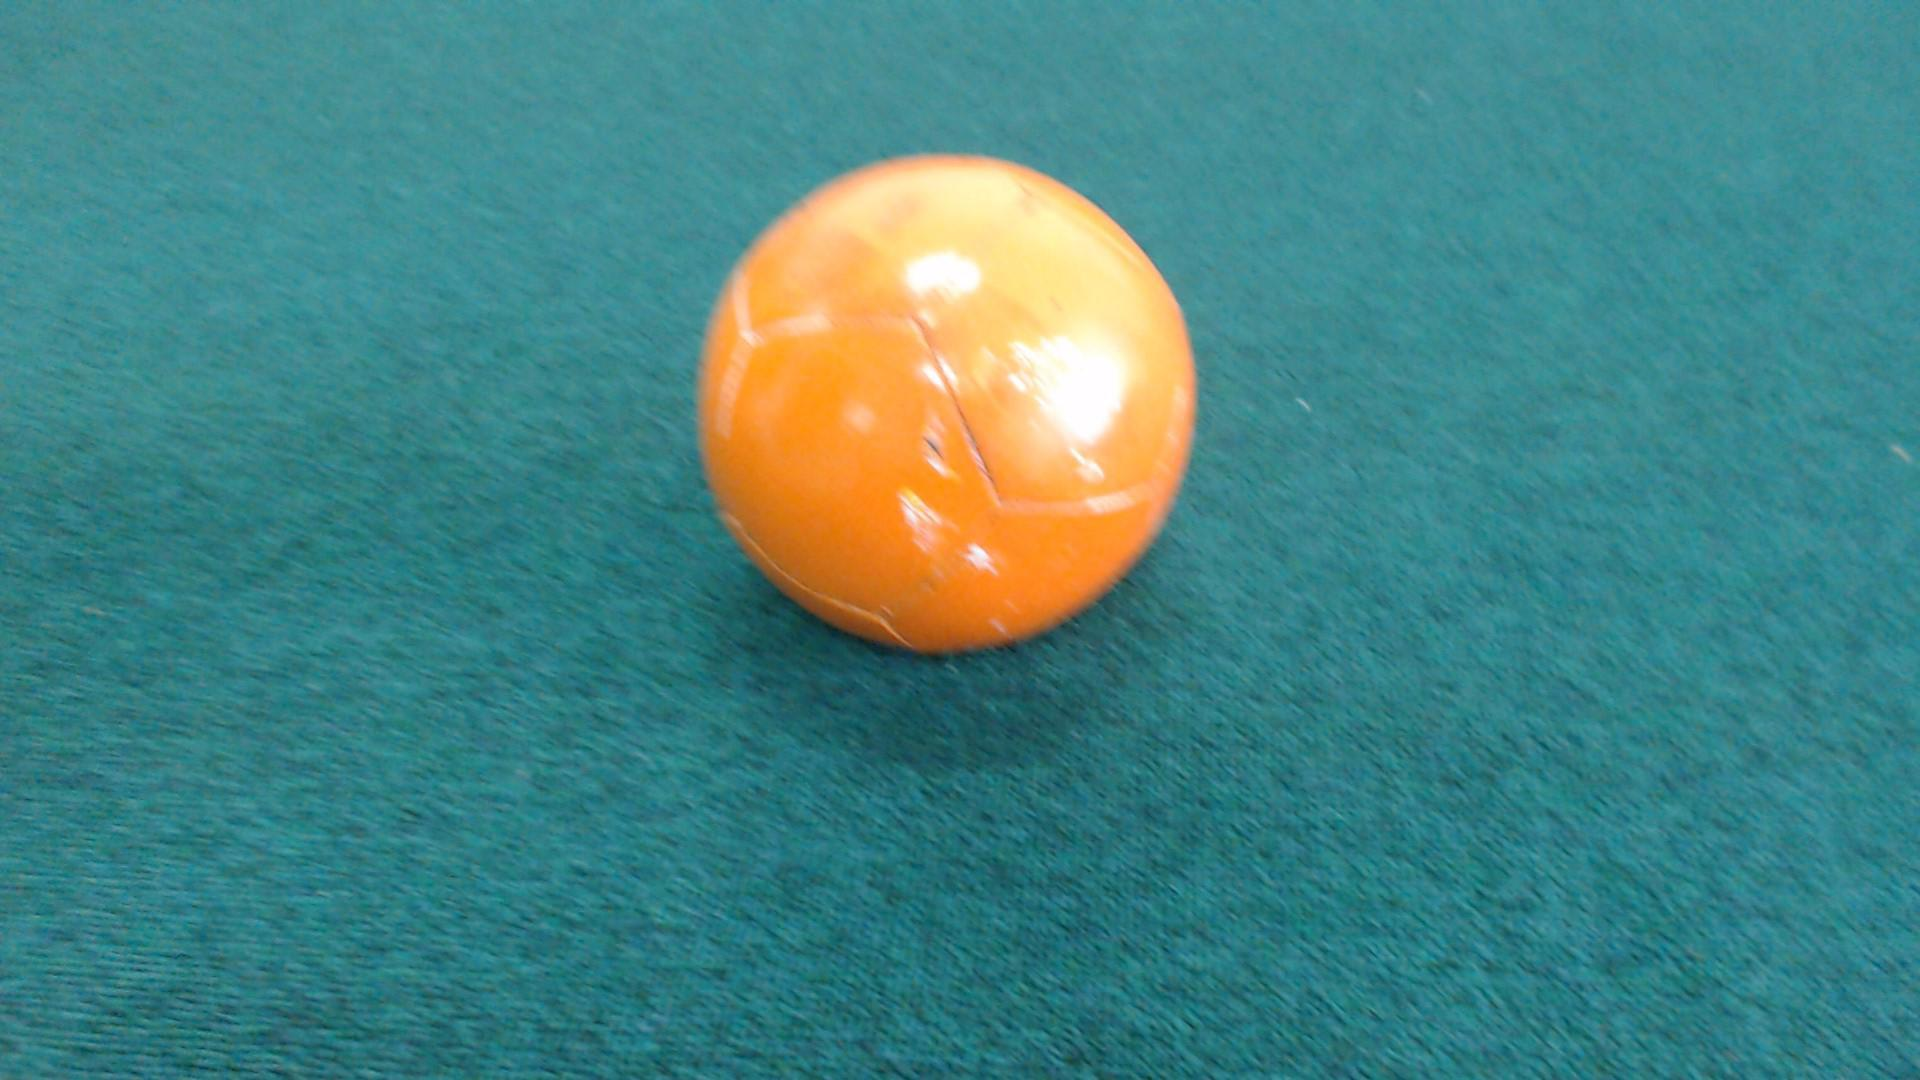bola: (657, 117, 1232, 673)
